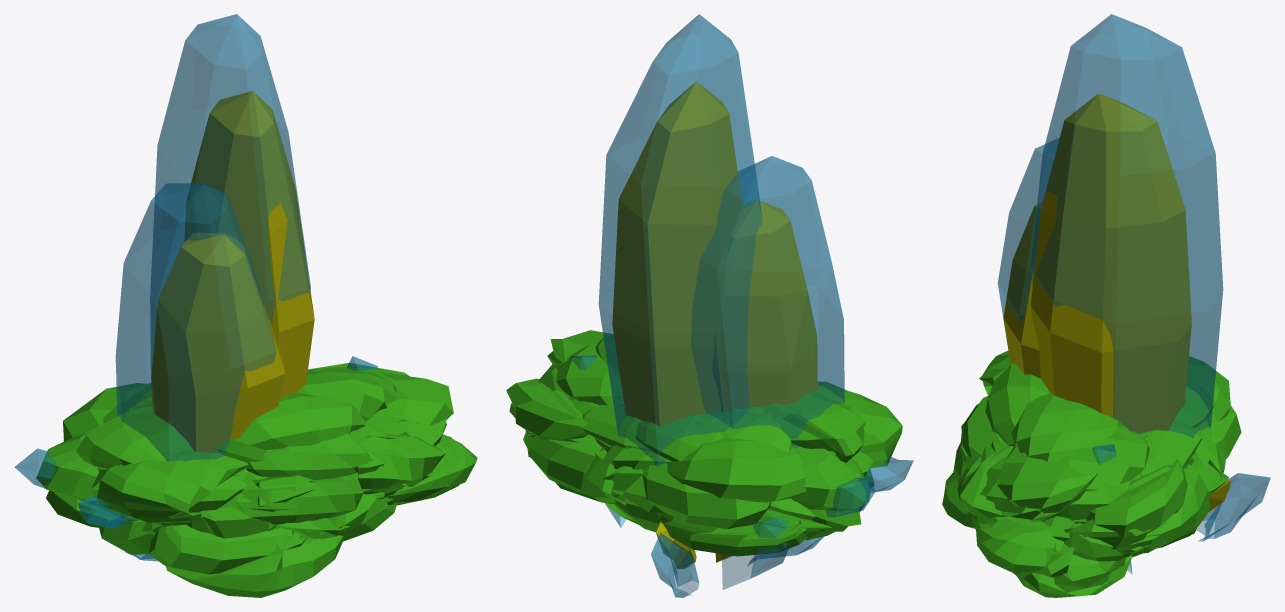
File: crystal7.obj
The picture shows the model from 3 angles, left to right: view 1: azimuth 30°, elevation 25°; view 2: azimuth 150°, elevation 25°; view 3: azimuth 270°, elevation 25°; orthographic projection.
Parts seen in each view (by area): view 1: Cube.001, Circle.001, Circle; view 2: Circle.001, Circle, Cube.001; view 3: Circle.001, Circle, Cube.001.
Part boxes in pixels (box(x1,y1,x2,y2)): Cube.001: box(36, 363, 477, 597); Circle.001: box(14, 14, 377, 561); Circle: box(126, 91, 314, 517); Circle.001: box(570, 14, 913, 597); Circle: box(612, 81, 817, 568); Cube.001: box(506, 330, 902, 556); Circle.001: box(997, 14, 1270, 574); Circle: box(1003, 93, 1231, 526); Cube.001: box(942, 350, 1241, 597).
Bounding box in the file's own units: 3.77 × 4.96 × 2.71.
